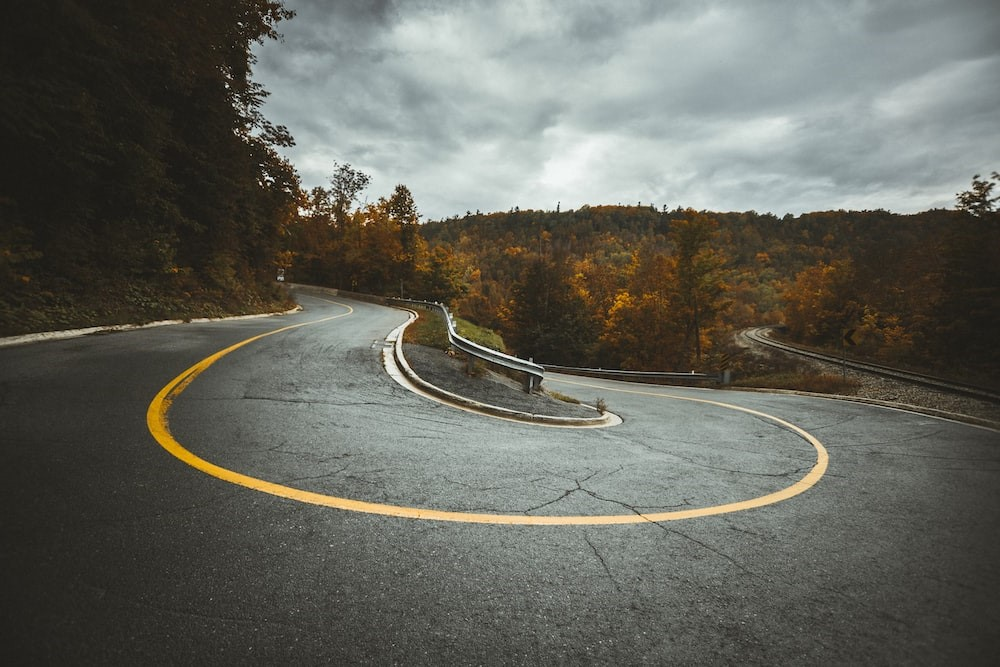rightTrun: (59, 307, 371, 543)
